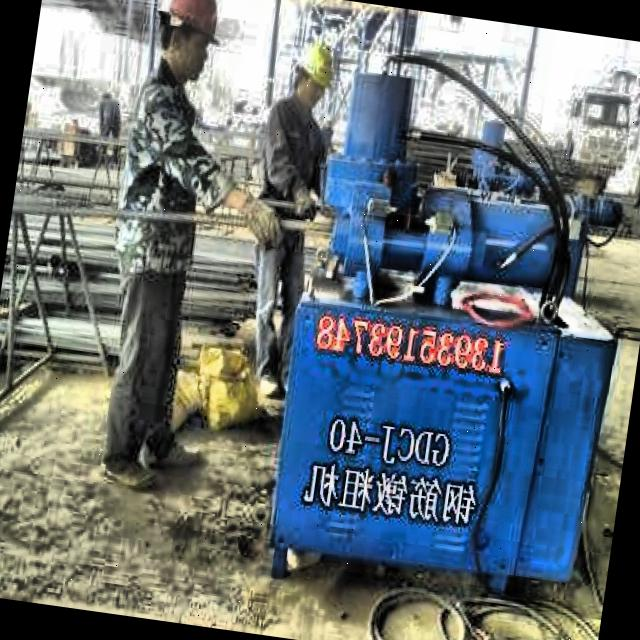helmet: (148, 0, 228, 92), (287, 28, 339, 112)
